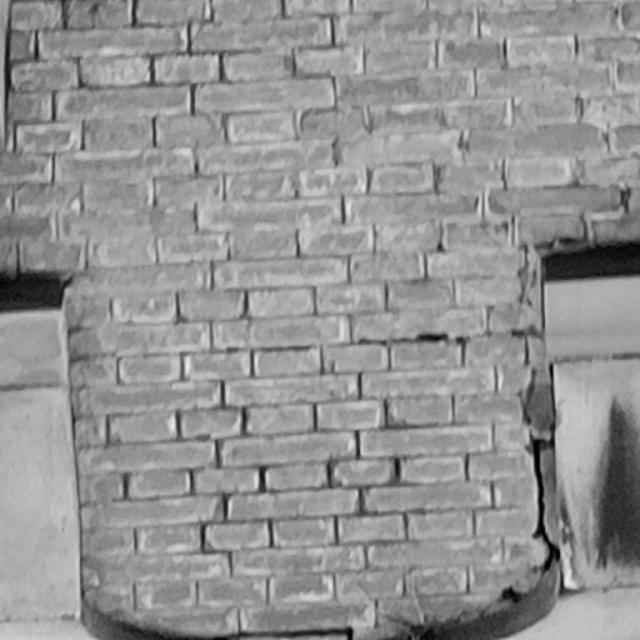crack: (407, 326, 560, 637)
